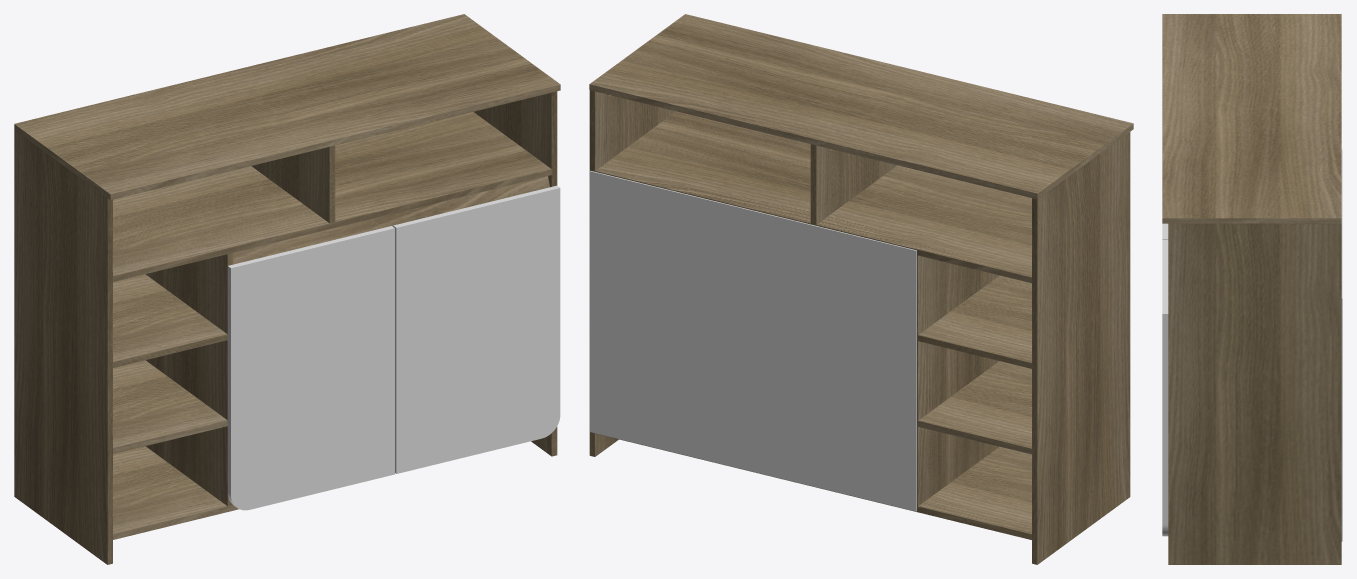
3 renders of one model, left to right at view 1: azimuth 30°, elevation 25°; view 2: azimuth 150°, elevation 25°; view 3: azimuth 270°, elevation 25°, orthographic. The views are drawn at different scales.
Parts seen in each view (by area): view 1: A405270-TAPASXXXTA, A405270-PUERTASXIZ, A405270-PUERTASXDE, A405270-COSTADOSIZ, A405270-TAPASXXXEN, A405270-SEPDORESAJ, A405270-PISOSXXXPI, A405270-ESTANTESFI, A405270-ESTANTESFI001, A405270-COSTADOSDE, A405270-FRENTESXFR, A405270-SEPDORESAB; view 2: A405270-TAPASXXXTA, A405270-FONDOSXXMU001, A405270-FONDOSXXMU, A405270-COSTADOSIZ, A405270-TAPASXXXEN, A405270-SEPDORESAJ, A405270-PISOSXXXPI, A405270-ESTANTESFI001, A405270-ESTANTESFI, A405270-COSTADOSDE, A405270-SEPDORESAB; view 3: A405270-COSTADOSDE, A405270-TAPASXXXTA, A405270-PUERTASXDE, A405270-FONDOSXXMU.
Boxes of the visible parts, <box> form: A405270-TAPASXXXTA: <box>14,14,560,200</box>; A405270-PUERTASXIZ: <box>227,226,394,510</box>; A405270-PUERTASXDE: <box>393,185,560,473</box>; A405270-COSTADOSIZ: <box>14,130,112,564</box>; A405270-TAPASXXXEN: <box>113,112,551,281</box>; A405270-SEPDORESAJ: <box>146,253,233,506</box>; A405270-PISOSXXXPI: <box>113,446,238,539</box>; A405270-ESTANTESFI: <box>113,274,227,367</box>; A405270-ESTANTESFI001: <box>113,360,227,453</box>; A405270-COSTADOSDE: <box>473,91,557,456</box>; A405270-FRENTESXFR: <box>233,176,549,264</box>; A405270-SEPDORESAB: <box>251,145,335,223</box>; A405270-TAPASXXXTA: <box>589,14,1133,199</box>; A405270-FONDOSXXMU001: <box>753,210,916,511</box>; A405270-FONDOSXXMU: <box>590,170,753,471</box>; A405270-COSTADOSIZ: <box>1032,132,1130,564</box>; A405270-TAPASXXXEN: <box>595,111,1031,283</box>; A405270-SEPDORESAJ: <box>917,255,999,506</box>; A405270-PISOSXXXPI: <box>595,433,1031,539</box>; A405270-ESTANTESFI001: <box>918,361,1031,454</box>; A405270-ESTANTESFI: <box>918,275,1031,368</box>; A405270-COSTADOSDE: <box>589,90,675,456</box>; A405270-SEPDORESAB: <box>810,144,896,224</box>; A405270-COSTADOSDE: <box>1168,223,1341,564</box>; A405270-TAPASXXXTA: <box>1162,14,1341,223</box>; A405270-PUERTASXDE: <box>1162,239,1168,536</box>; A405270-FONDOSXXMU: <box>1341,224,1342,541</box>.
Bounding box in the file's own units: 1.2 × 0.95 × 0.448.
1 material, 1 textured.
